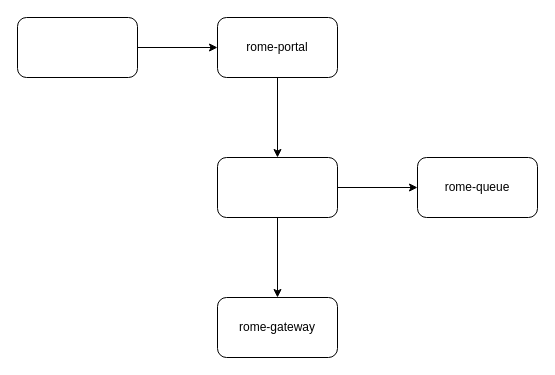
The diagram is 555 pixels wide and 375 high, and some of its shapes have lost their labels. The centre of each missing label's shape, as x and y in pixels:
"feature-proxy" goes at pixel 77 47.
"rome-service" goes at pixel 277 187.
